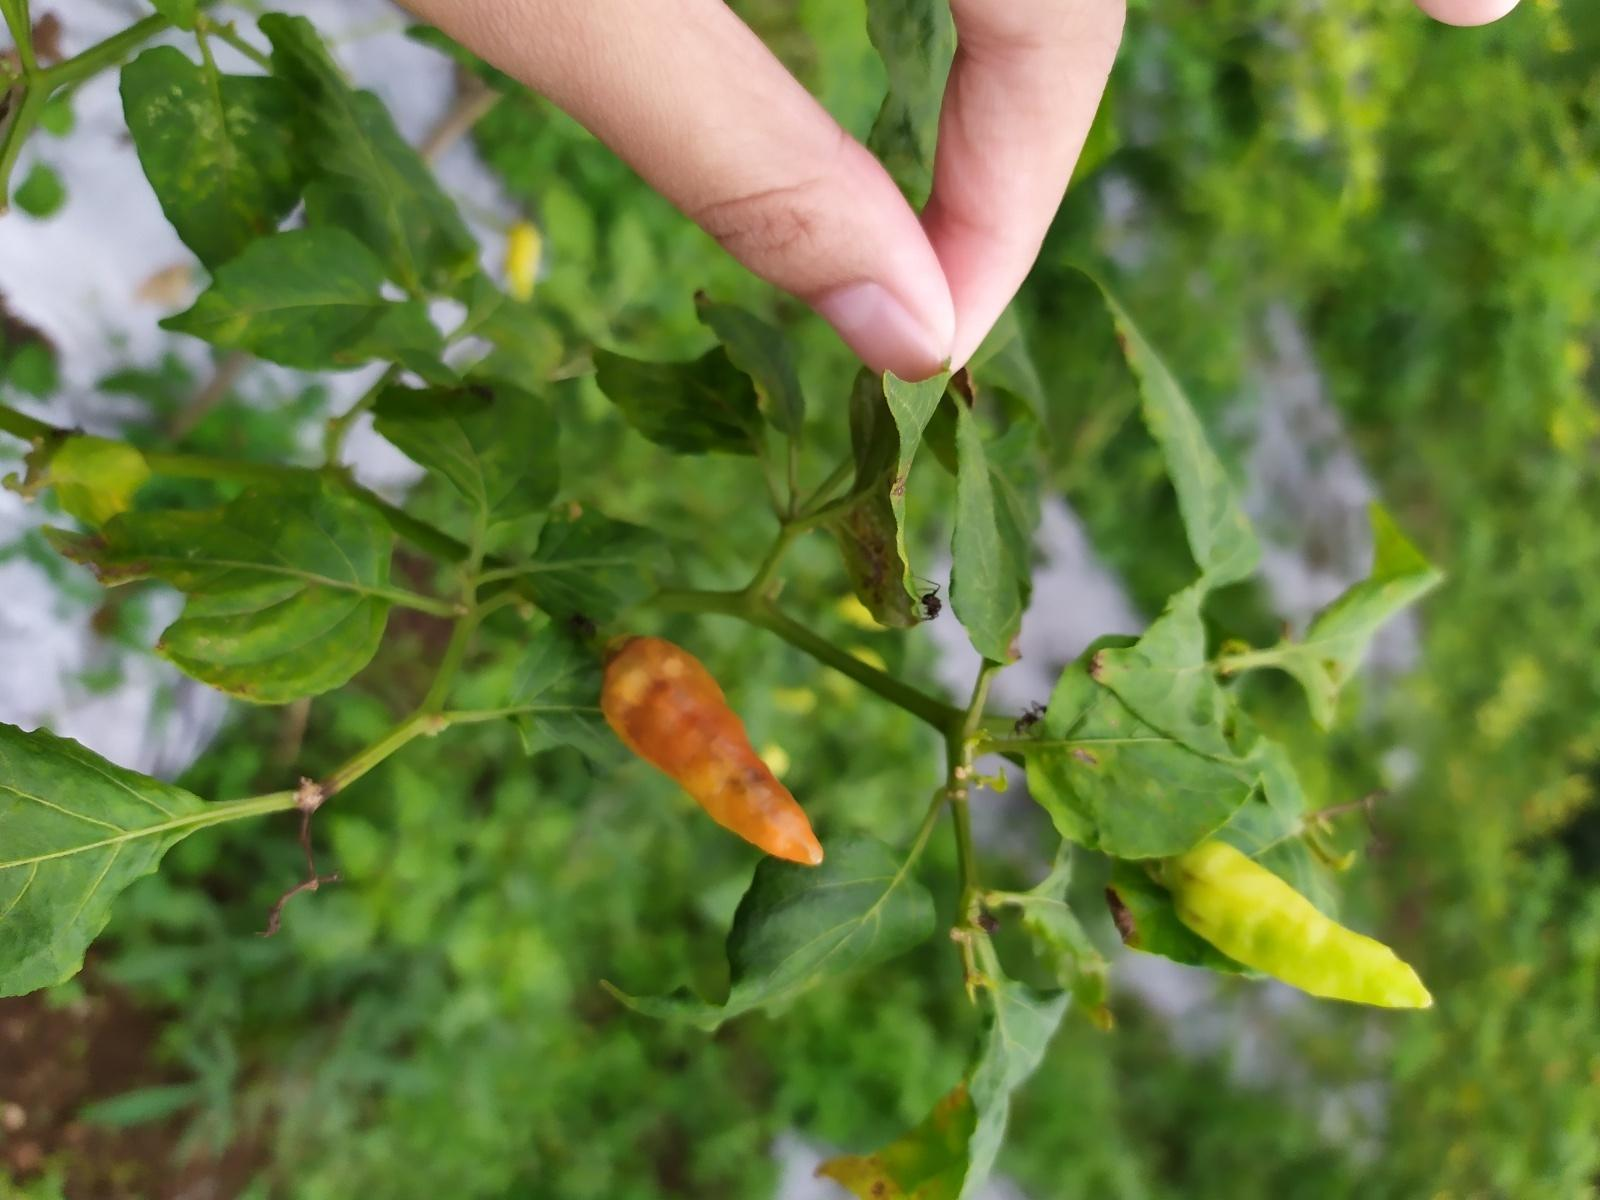cabai_normal: (1166, 838, 1435, 1010)
lalat_buah: (598, 637, 825, 868)
